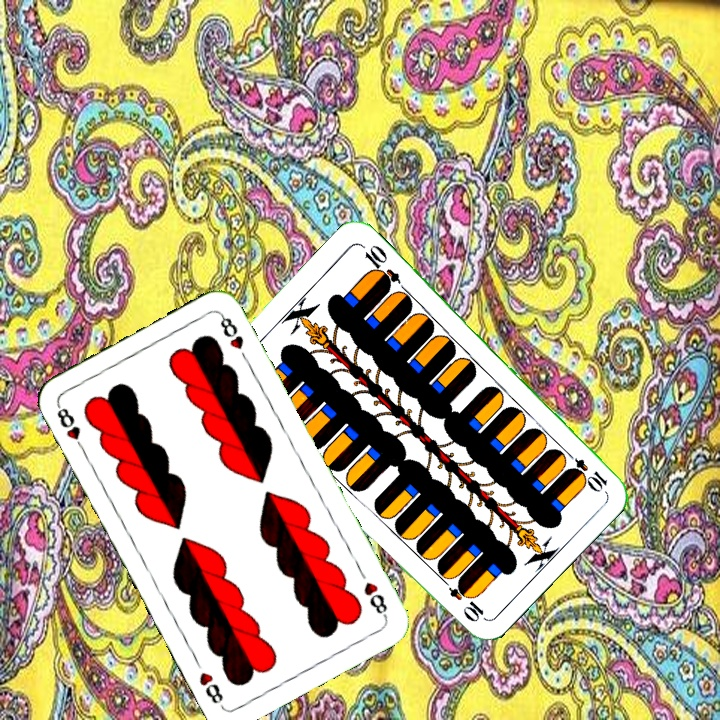E10: (560, 446, 611, 492)
H8: (52, 400, 88, 455), (359, 577, 390, 620)
